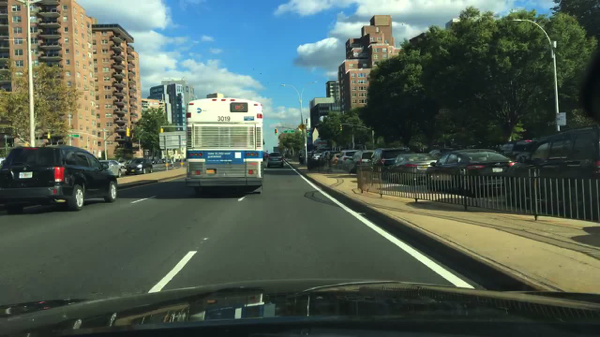bus: (184, 94, 262, 193)
car: (507, 126, 599, 213), (0, 146, 118, 212), (428, 151, 515, 196), (384, 153, 441, 187), (371, 147, 418, 181), (487, 140, 536, 170), (0, 154, 16, 213), (122, 157, 154, 176), (337, 149, 360, 172), (352, 149, 375, 172), (97, 160, 124, 177), (120, 160, 148, 176), (296, 147, 318, 163), (319, 149, 336, 169), (267, 150, 283, 169), (330, 152, 343, 171), (308, 152, 322, 169), (261, 151, 271, 162), (152, 157, 164, 164)
traffic light: (125, 126, 132, 139), (338, 124, 343, 132), (159, 126, 163, 135), (274, 127, 277, 138), (48, 132, 51, 139)
traffic sign: (158, 131, 188, 150), (556, 112, 566, 125), (298, 124, 307, 132), (280, 131, 295, 135), (66, 134, 79, 138)
